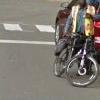Bicycle: (47, 32, 98, 90)
